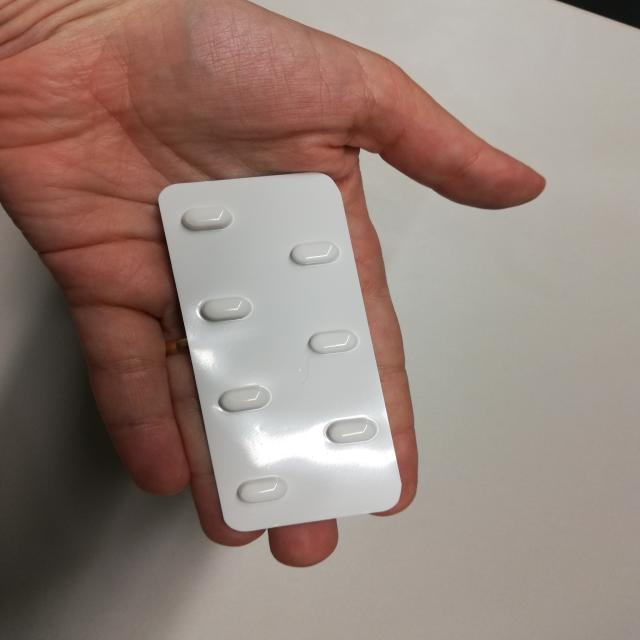Pill: (278, 231, 344, 272), (174, 200, 241, 239), (211, 379, 276, 417), (190, 289, 256, 325), (313, 414, 385, 447), (224, 474, 296, 506), (306, 325, 361, 358)
